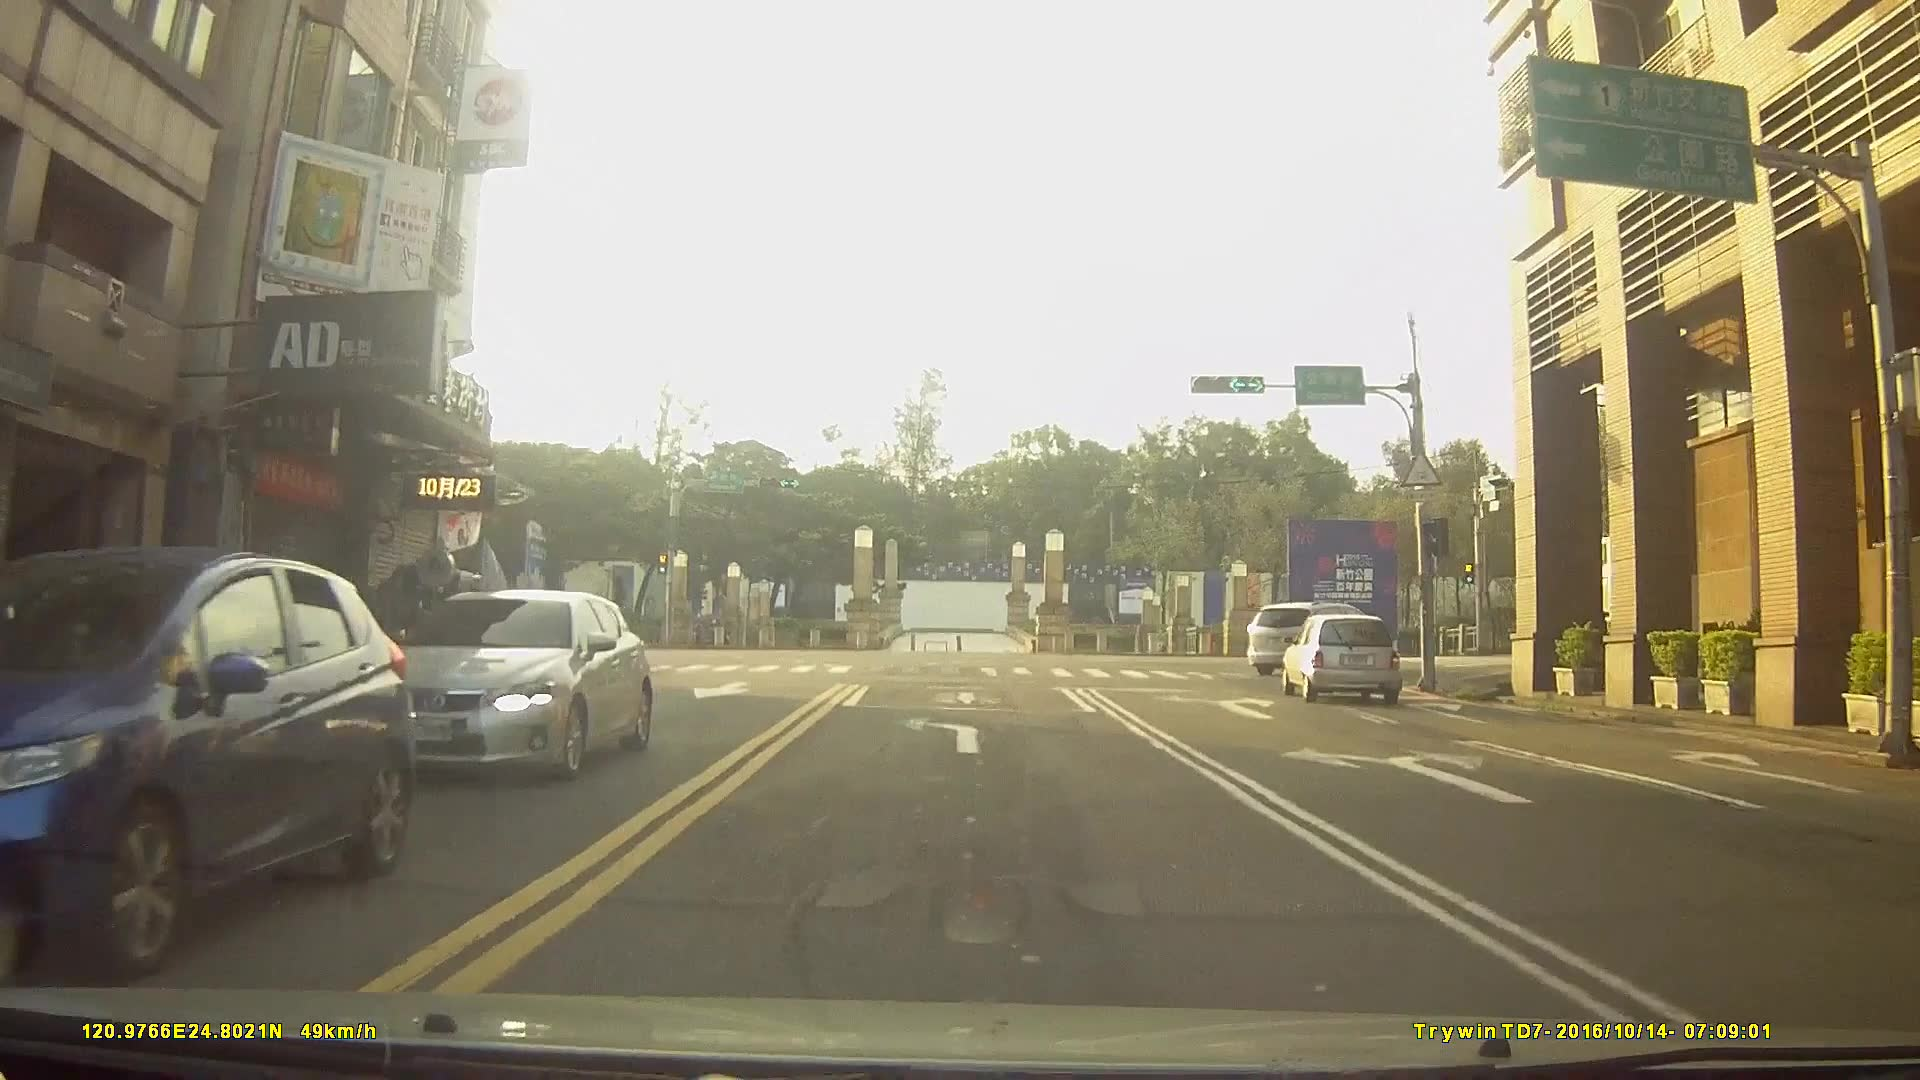vehicle: (0, 538, 411, 967), (377, 583, 651, 781), (1246, 596, 1390, 675), (1283, 609, 1404, 699)
